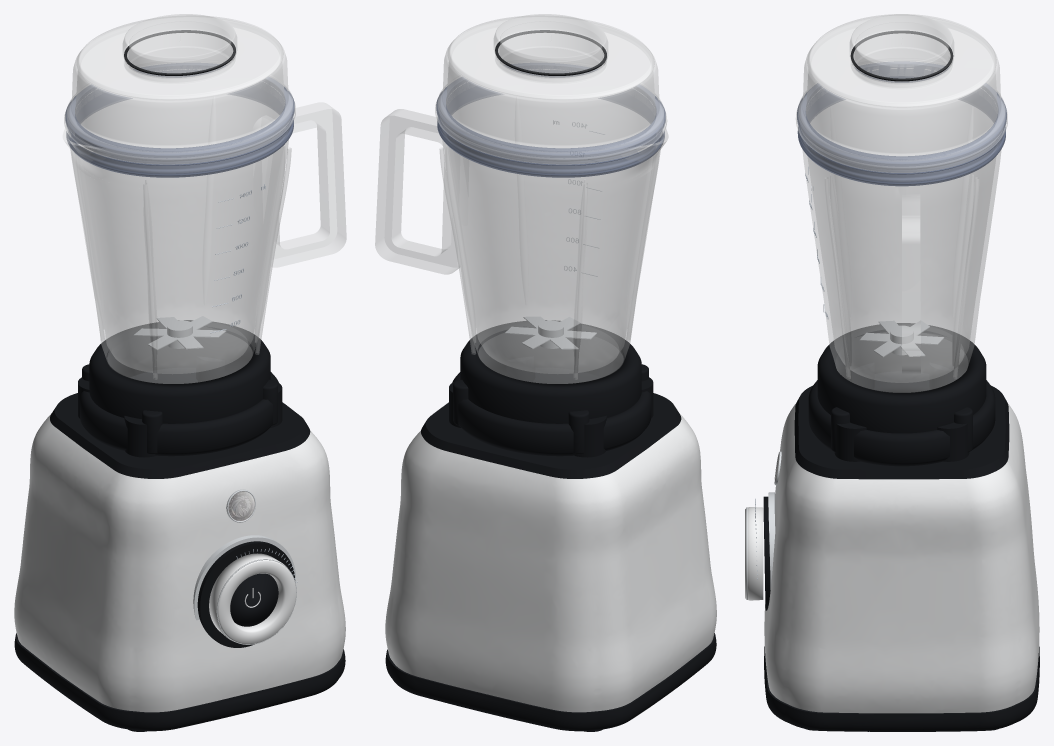
Rendered from power-blender-max-v06.glb.
The picture shows the model from 3 angles, left to right: view 1: azimuth 30°, elevation 25°; view 2: azimuth 150°, elevation 25°; view 3: azimuth 270°, elevation 25°; orthographic projection.
Visible parts, largest first — view 1: 01 · Base motor001.001, Vaso con pico continuo v03.001, Tapa v04 · cuerpo cilíndrico hueco.001, v05 · Cuello superior del vaso.001, Tapa v04 · junta insertada.001, Tapa v04 · borde superior.001, v05 · Acoplamiento inferior continuo.001, 01 · Base motor.001, 01 · Base motor002.001, Tapón v04 · inserto central ancho.001, 03 · Jarra y asa002.001, v06 · Aro blanco saliente con cavidad.001 (+14 smaller); view 2: 01 · Base motor001.001, Vaso con pico continuo v03.001, Tapa v04 · cuerpo cilíndrico hueco.001, v05 · Cuello superior del vaso.001, Tapa v04 · junta insertada.001, Tapa v04 · borde superior.001, 03 · Jarra y asa002.001, v05 · Acoplamiento inferior continuo.001, 01 · Base motor.001, 01 · Base motor002.001, Tapón v04 · inserto central ancho.001, Tapa v04 · anillo intermedio transparente.001 (+9 smaller); view 3: 01 · Base motor001.001, Vaso con pico continuo v03.001, Tapa v04 · cuerpo cilíndrico hueco.001, v05 · Cuello superior del vaso.001, Tapa v04 · junta insertada.001, Tapa v04 · borde superior.001, 01 · Base motor002.001, v05 · Acoplamiento inferior continuo.001, Tapón v04 · inserto central ancho.001, 01 · Base motor.001, 03 · Jarra y asa002.001, v06 · Aro blanco saliente con cavidad.001 (+13 smaller).
Part boxes in pixels (box(x1,y1,x2,y2)): 01 · Base motor001.001: box(14, 413, 345, 712); Vaso con pico continuo v03.001: box(63, 94, 288, 383); Tapa v04 · cuerpo cilíndrico hueco.001: box(67, 19, 292, 155); v05 · Cuello superior del vaso.001: box(89, 320, 270, 423); Tapa v04 · junta insertada.001: box(65, 63, 294, 177); Tapa v04 · borde superior.001: box(77, 15, 283, 100); v05 · Acoplamiento inferior continuo.001: box(80, 368, 278, 456); 01 · Base motor.001: box(14, 633, 345, 731); 01 · Base motor002.001: box(50, 393, 310, 478); Tapón v04 · inserto central ancho.001: box(123, 14, 236, 78); 03 · Jarra y asa002.001: box(252, 102, 346, 267); v06 · Aro blanco saliente con cavidad.001: box(209, 553, 296, 644); 01 · Base motor001.001: box(385, 414, 716, 712); Vaso con pico continuo v03.001: box(442, 94, 668, 383); Tapa v04 · cuerpo cilíndrico hueco.001: box(438, 19, 663, 155); v05 · Cuello superior del vaso.001: box(460, 320, 641, 423); Tapa v04 · junta insertada.001: box(436, 63, 665, 177); Tapa v04 · borde superior.001: box(448, 15, 654, 100); 03 · Jarra y asa002.001: box(375, 109, 468, 274); v05 · Acoplamiento inferior continuo.001: box(452, 368, 651, 456); 01 · Base motor.001: box(385, 633, 716, 731); 01 · Base motor002.001: box(421, 393, 681, 478); Tapón v04 · inserto central ancho.001: box(494, 14, 607, 78); Tapa v04 · anillo intermedio transparente.001: box(435, 102, 666, 164); 01 · Base motor001.001: box(764, 404, 1039, 713); Vaso con pico continuo v03.001: box(802, 99, 1001, 392); Tapa v04 · cuerpo cilíndrico hueco.001: box(798, 17, 1005, 164); v05 · Cuello superior del vaso.001: box(817, 323, 986, 433); Tapa v04 · junta insertada.001: box(797, 61, 1006, 186); Tapa v04 · borde superior.001: box(807, 14, 996, 107); 01 · Base motor002.001: box(794, 385, 1009, 479); v05 · Acoplamiento inferior continuo.001: box(808, 371, 995, 466); Tapón v04 · inserto central ancho.001: box(850, 14, 953, 83); 01 · Base motor.001: box(764, 646, 1039, 731); 03 · Jarra y asa002.001: box(902, 194, 920, 373); v06 · Aro blanco saliente con cavidad.001: box(745, 507, 763, 600).
Bounding box in the file's own units: 0.2417 × 0.508 × 0.2105.
8 materials, 1 textured.
